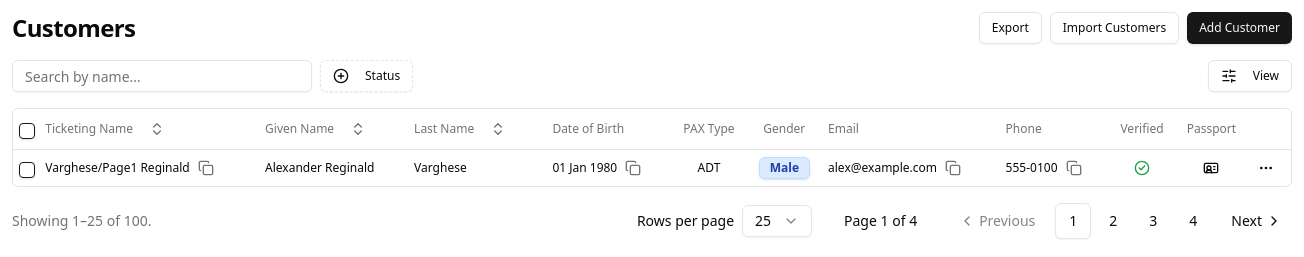
it: CustomersPage › paginates via numbered page links
Expected: the text "Varghese/Page1 Reginald" is shown, [45,160,190,176]
Click the link "2". click: click(1113, 220)
box: [1109,210,1117,230]
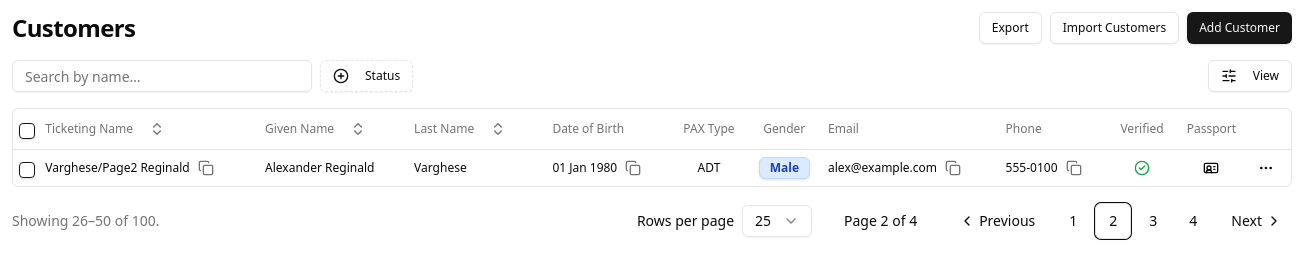
Expected: the text "Varghese/Page2 Reginald" is shown, [45,160,190,176]
